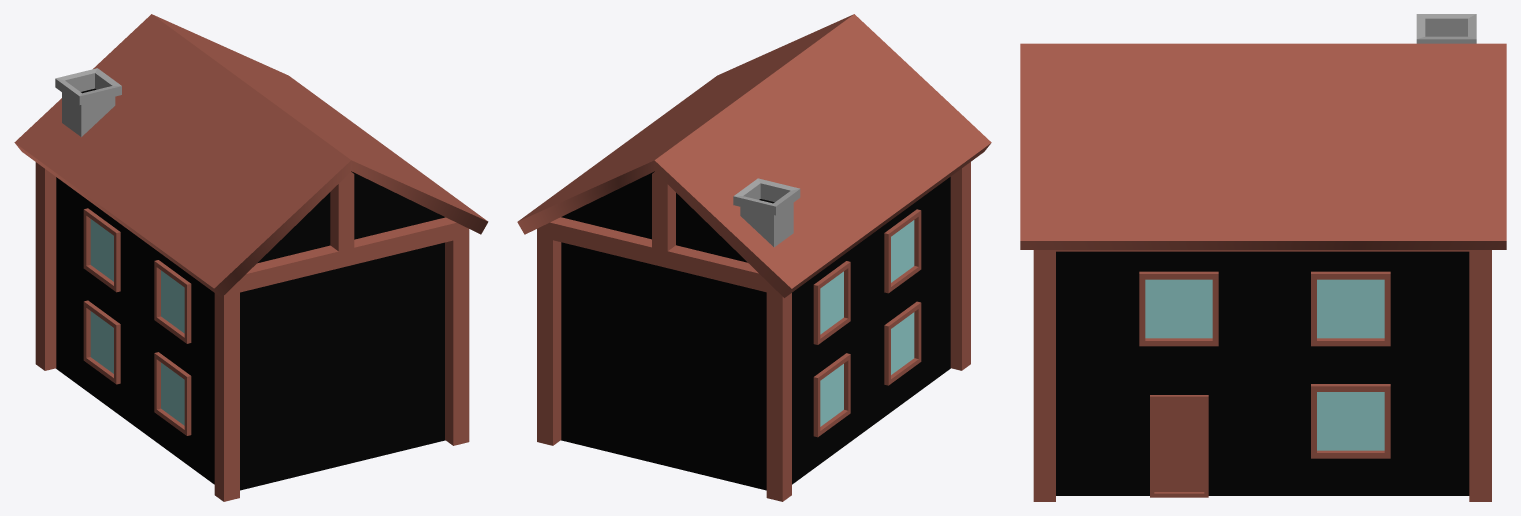
File: oldHouse1.fbx
3 renders of one model, left to right at view 1: azimuth 30°, elevation 25°; view 2: azimuth 150°, elevation 25°; view 3: azimuth 270°, elevation 25°, orthographic. The views are drawn at different scales.
Visible parts, largest first — view 1: Wohnhaus2.002, Wohnhaus5.011, Cube.018, Plane.049, Cube.027; view 2: Wohnhaus2.002, Wohnhaus5.011, Cube.018, Plane.049, Cube.027; view 3: Wohnhaus5.011, Wohnhaus2.002, Plane.049, Cube.018, Plane.035, Cube.027.
Boxes of the visible parts, x1,y1,x2,y2 form: Wohnhaus2.002: (56, 171, 445, 490); Wohnhaus5.011: (14, 14, 488, 297); Cube.018: (35, 162, 469, 501); Plane.049: (83, 208, 191, 435); Cube.027: (55, 68, 121, 136); Wohnhaus2.002: (561, 171, 950, 490); Wohnhaus5.011: (517, 14, 991, 297); Cube.018: (537, 162, 970, 501); Plane.049: (813, 209, 921, 437); Cube.027: (733, 178, 800, 247); Wohnhaus5.011: (1020, 43, 1506, 249); Wohnhaus2.002: (1056, 251, 1469, 495); Plane.049: (1139, 271, 1390, 458); Cube.018: (1033, 250, 1491, 501); Plane.035: (1150, 395, 1208, 497); Cube.027: (1416, 14, 1476, 43).
Size of the model in its own units: 7.38 by 8.14 by 9.31.
